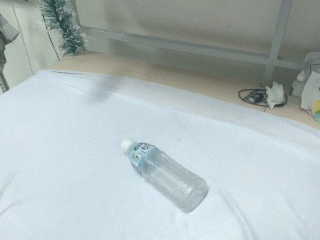bottle: (119, 138, 210, 213)
